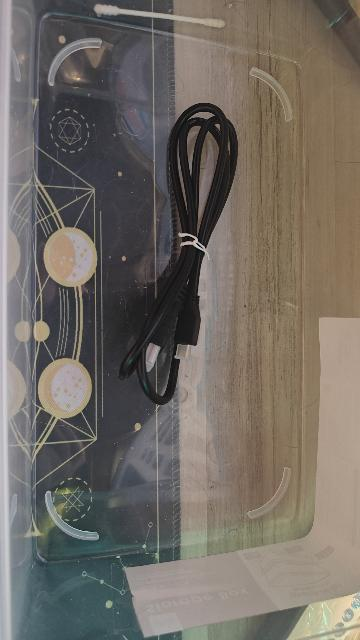hdmi_cable: (115, 86, 242, 430)
